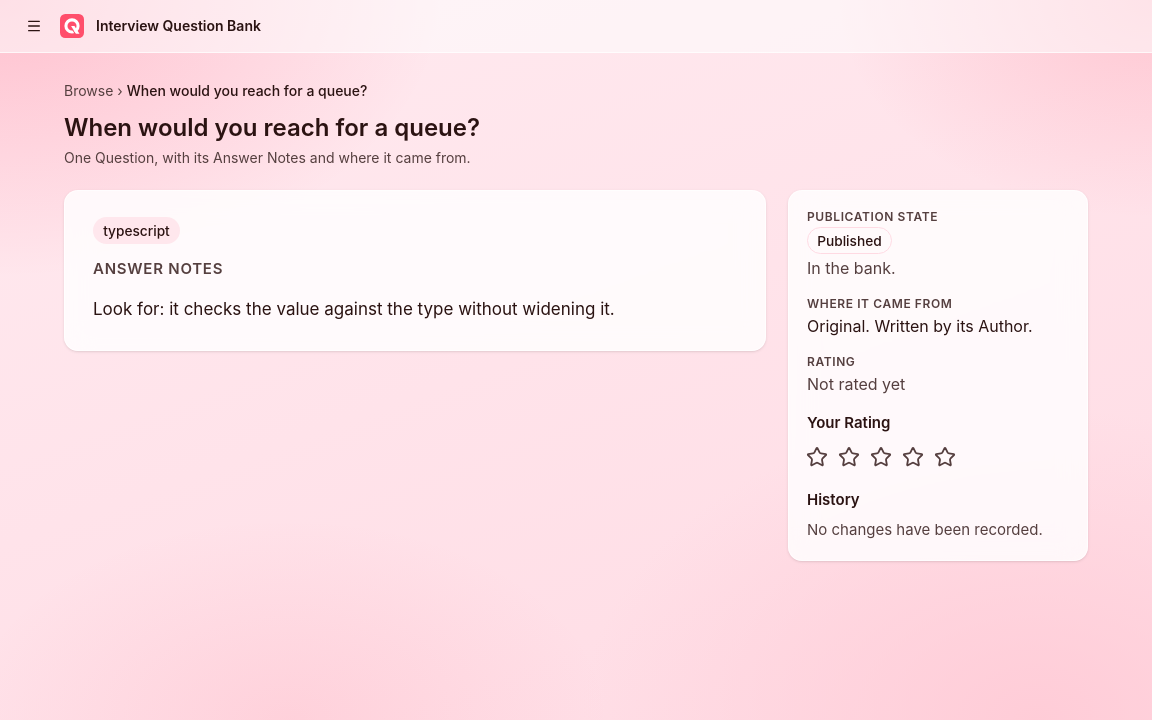
Scenario: rating a Question › sends the Rating and shows the summary the API answered with, with yours pressed
The width and height of the screenshot is (1152, 720).
Expected: the heading "When would you reach for a queue?" is shown, [64, 113, 480, 142]
Click the button named "4 out of 5".
click(913, 457)  # box [897, 441, 929, 473]
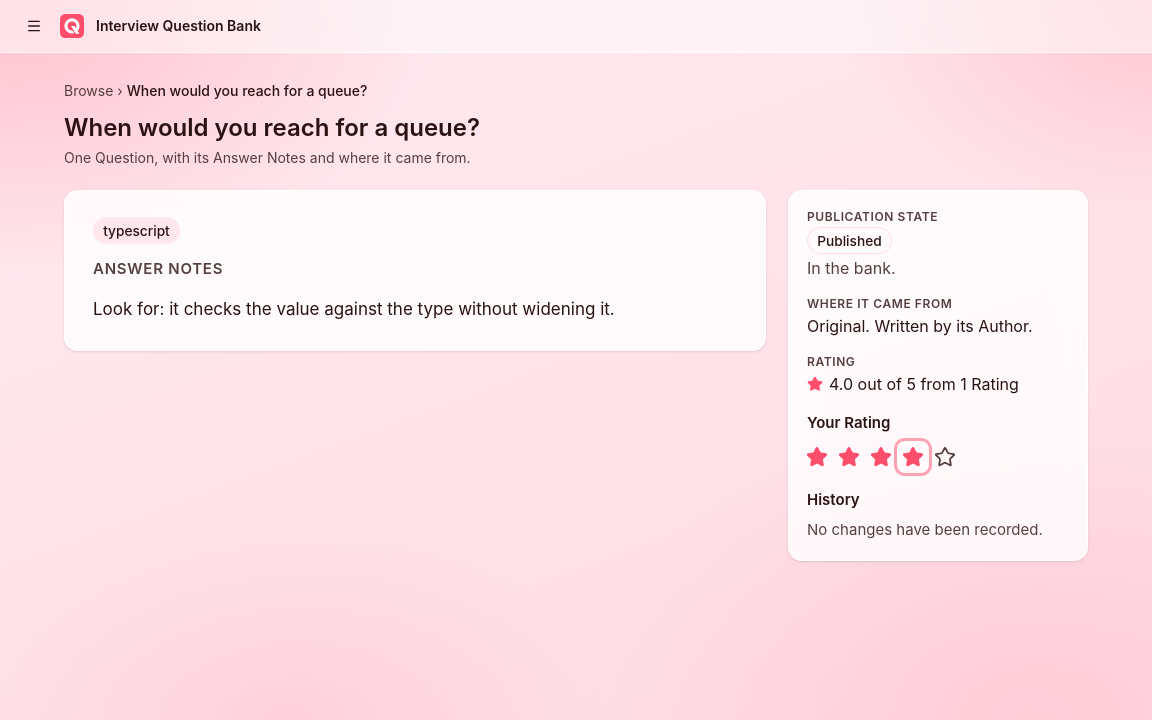
Result: the text "4.0 out of 5 from 1 Rating" is shown at [829, 372, 1019, 396]
